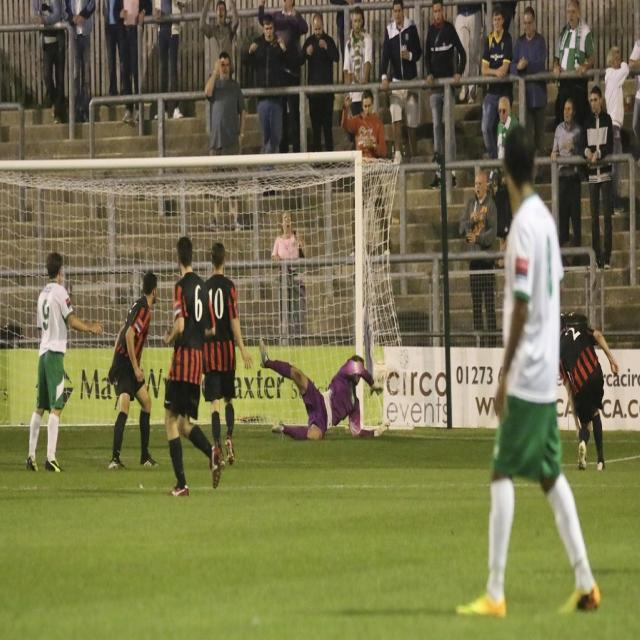ball: (373, 358, 386, 383)
